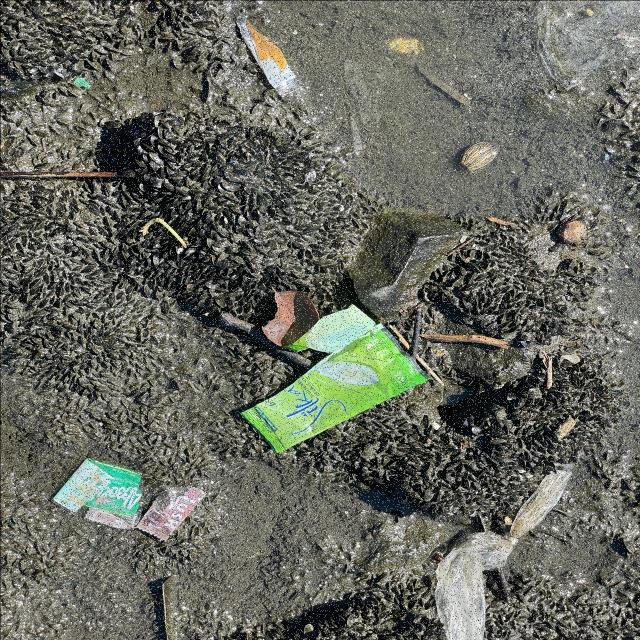plastic_waste: (240, 304, 430, 455), (51, 459, 140, 531), (138, 486, 206, 541)
